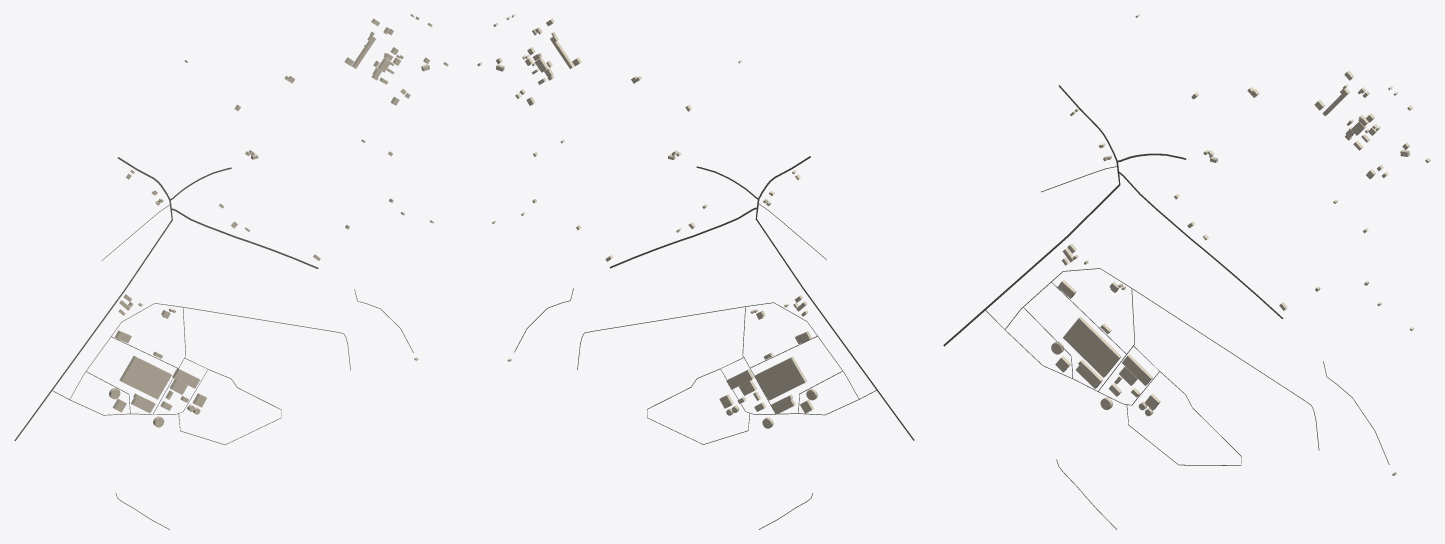
Rendered from historic-palestine-03_21_3451_3150.glb.
3 views of the same model, side by side, from view 1: azimuth 30°, elevation 25°; view 2: azimuth 150°, elevation 25°; view 3: azimuth 330°, elevation 25° (orthographic). The views are drawn at different scales.
Parts seen in each view (by area): view 1: Building_.023, Road .002; view 2: Building_.023, Road .002; view 3: Building_.023, Road .002.
Boxes of the visible parts, left/top/right/bottom form: Building_.023: left=119, top=356, right=171, bottom=399; Road .002: left=14, top=200, right=172, bottom=440; Building_.023: left=754, top=356, right=806, bottom=400; Road .002: left=755, top=199, right=914, bottom=440; Building_.023: left=1063, top=316, right=1121, bottom=377; Road .002: left=943, top=161, right=1120, bottom=346.
Size of the model in its own units: 952 by 972 by 8.7.
